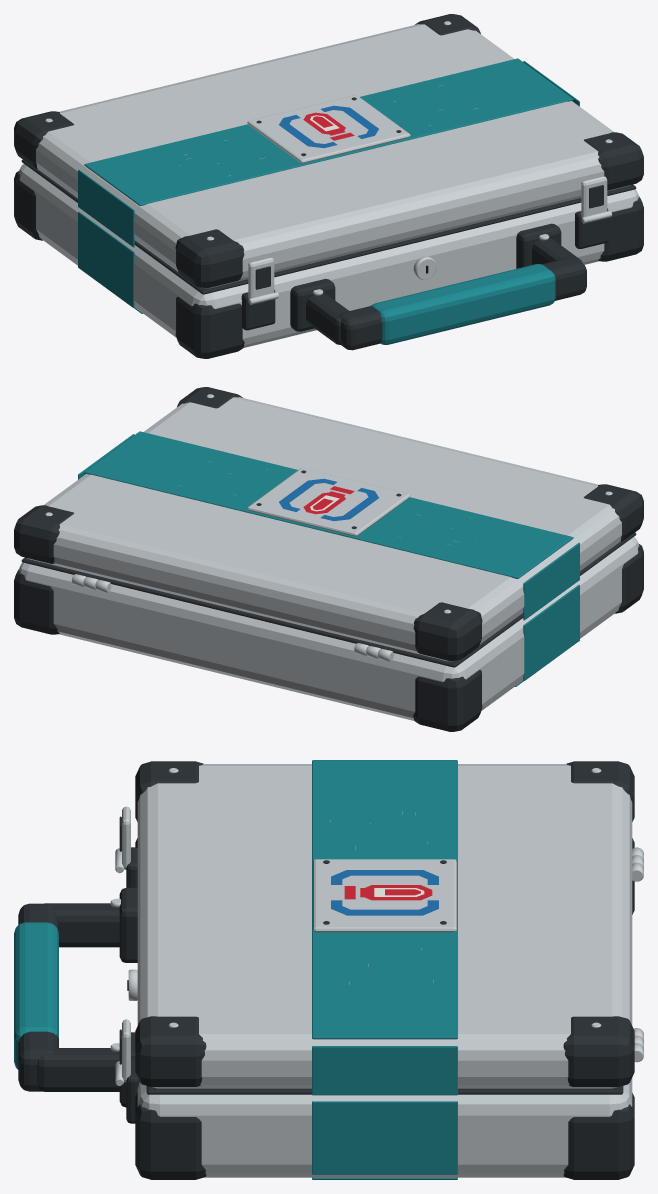
The model's file is hood_case.glb.
3 views of the same model, one above another, from view 1: azimuth 30°, elevation 25°; view 2: azimuth 150°, elevation 25°; view 3: azimuth 270°, elevation 25° (orthographic). The views are drawn at different scales.
Visible parts, largest first — view 1: CaseLid, CaseBase; view 2: CaseLid, CaseBase; view 3: CaseLid, CaseBase.
Part boxes in pixels (bbox=[...]): CaseLid: bbox=[14, 14, 643, 304]; CaseBase: bbox=[14, 159, 643, 358]; CaseLid: bbox=[14, 387, 643, 661]; CaseBase: bbox=[14, 532, 643, 731]; CaseLid: bbox=[115, 760, 643, 1095]; CaseBase: bbox=[14, 838, 643, 1179].
Bounding box in the file's own units: 0.302 × 0.0785 × 0.2802.
